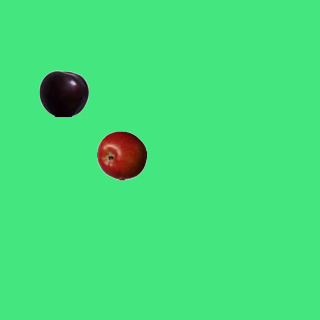Apple Braeburn: (96, 130, 146, 180)
Cherry Wax Black: (38, 68, 88, 118)
